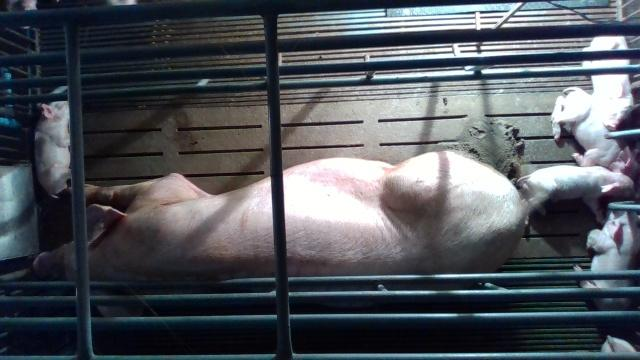piglet: (552, 87, 640, 181), (517, 165, 640, 224), (574, 210, 640, 310), (582, 35, 640, 129), (34, 102, 71, 199)
sow-sit: (33, 152, 528, 316)
